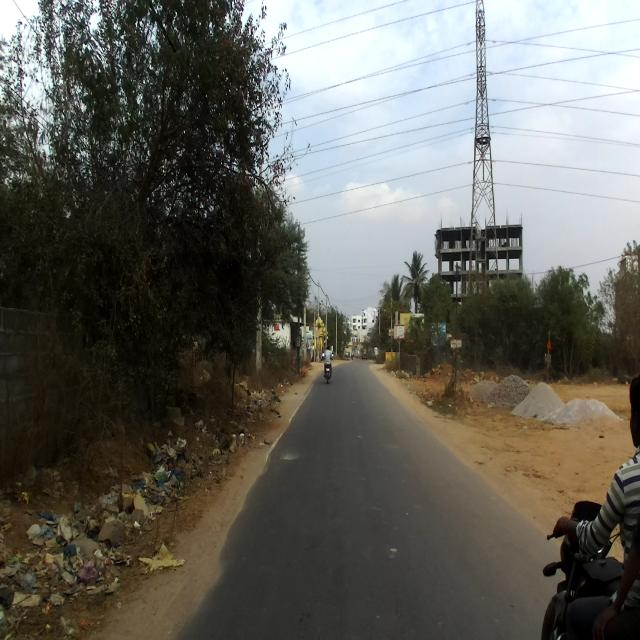stones ahead at: (3, 416, 218, 609)
